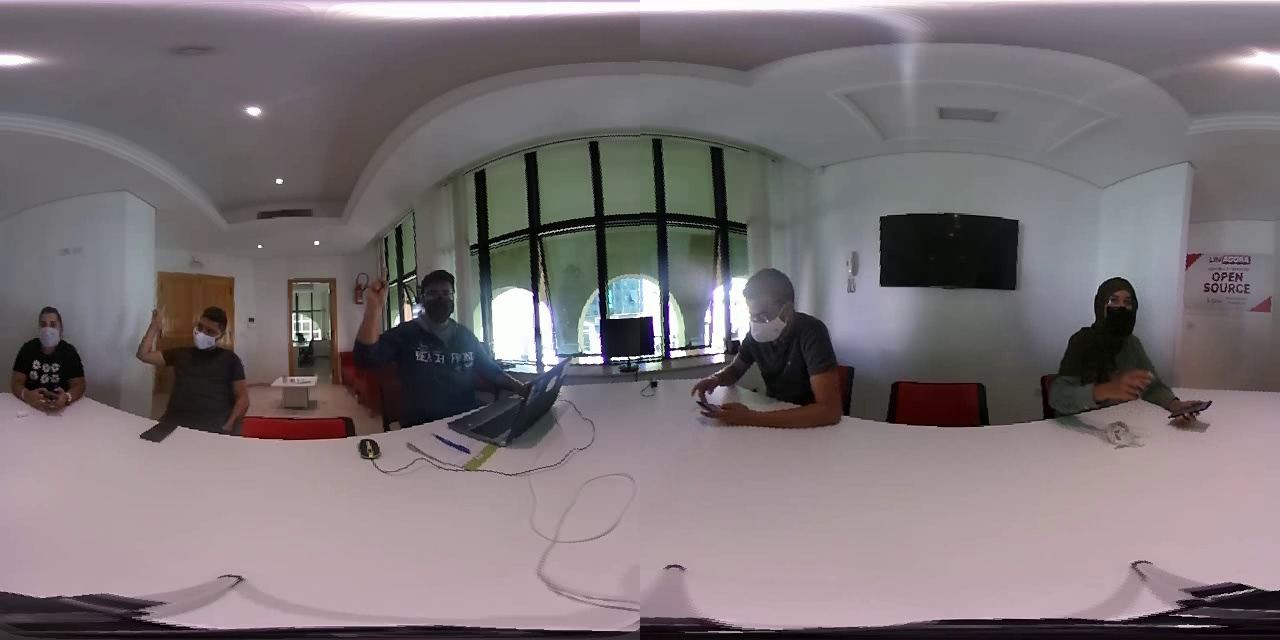person: (339, 252, 498, 445), (691, 257, 842, 440), (1040, 253, 1179, 432), (128, 285, 263, 443), (6, 299, 95, 409)
speaking: (353, 252, 399, 367), (131, 289, 171, 378)
